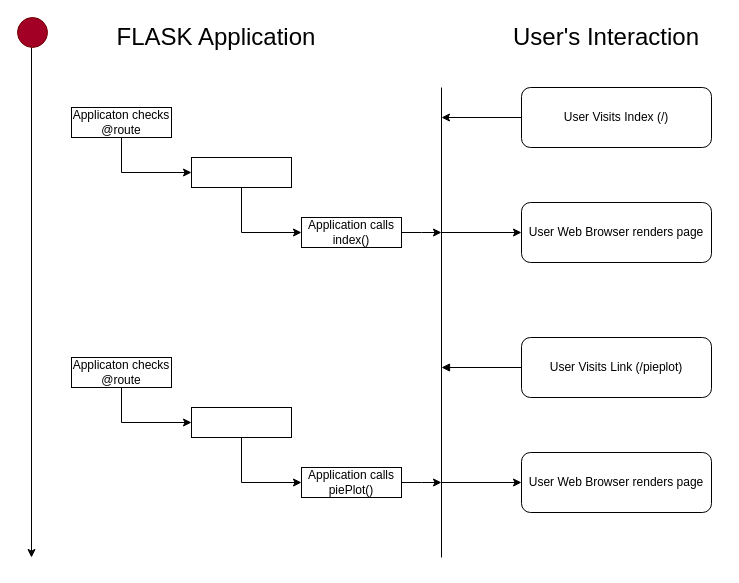
This 739x583 diagram has some shape labels left out. The shapes that lost their labels are listed below. From the top down, each one's centre as x and y in pixels, then its label:
pixel 241 172: Application finds '/'
pixel 241 422: Application finds '/pieplot'
